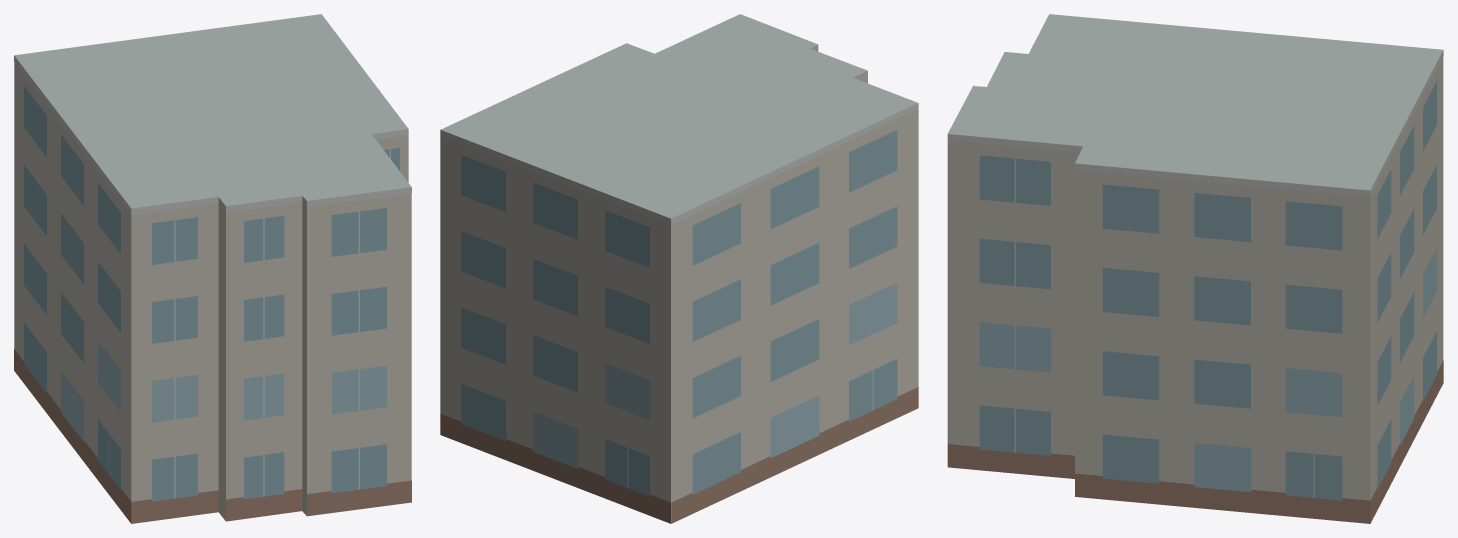
The model's file is survey-upis-32656006.glb.
The picture shows the model from 3 angles, left to right: view 1: azimuth 30°, elevation 25°; view 2: azimuth 150°, elevation 25°; view 3: azimuth 270°, elevation 25°; orthographic projection. The views are drawn at different scales.
Parts seen in each view (by area): view 1: survey-upis-32656006.tmp; view 2: survey-upis-32656006.tmp; view 3: survey-upis-32656006.tmp.
Part boxes in pixels (x1,y1,x2,y2): survey-upis-32656006.tmp: [14, 14, 411, 523]; survey-upis-32656006.tmp: [440, 14, 918, 523]; survey-upis-32656006.tmp: [947, 14, 1443, 523].
Bounding box in the file's own units: 13.61 × 11.98 × 16.16.
